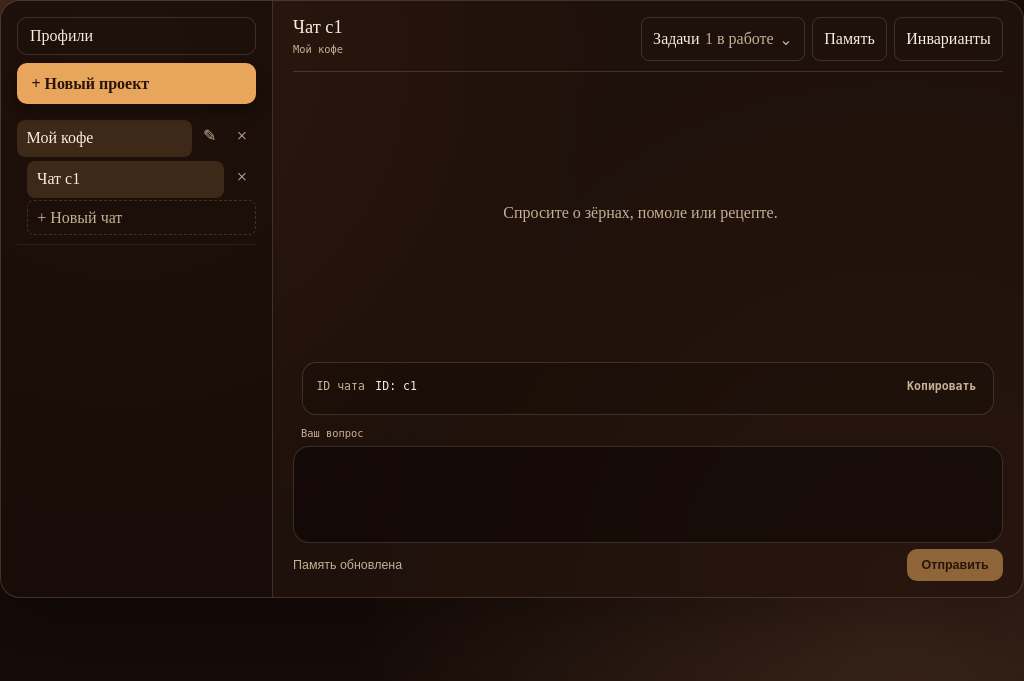
it: BaristaWorkspace › объясняет отсутствие плана во время доуточнения
Click the button "Задачи 1 в работе ⌄" at (723, 39), box x1=641 y1=17 x2=805 y2=61
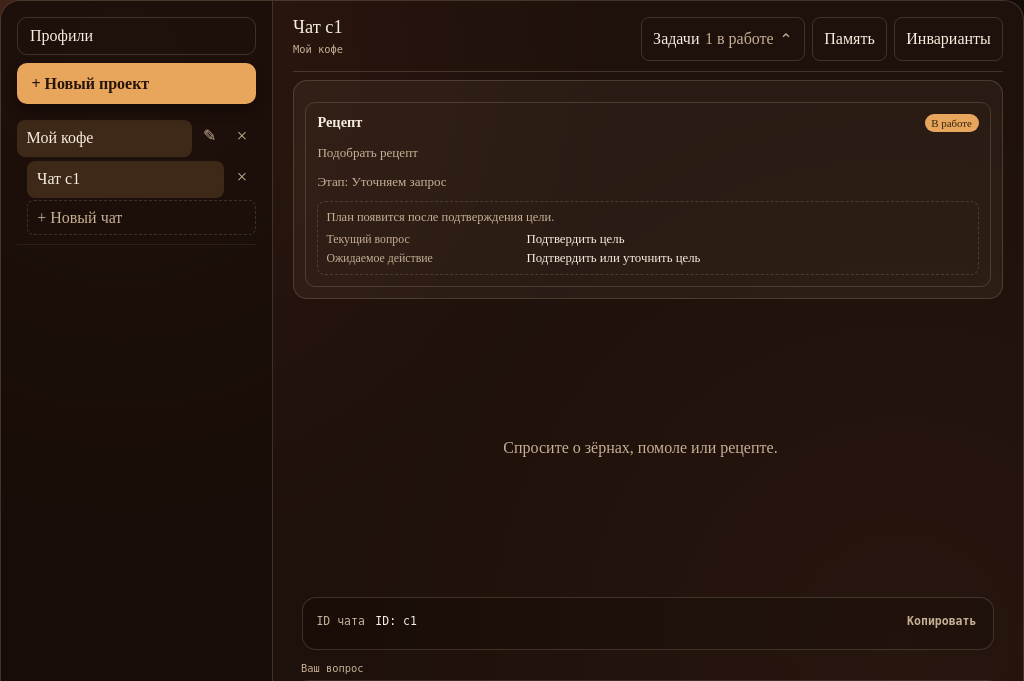
Result: the text "План появится после подтверждения цели." is shown at x1=326 y1=210 x2=554 y2=224
Result: the text "Текущий вопрос" is shown at x1=326 y1=232 x2=410 y2=246
Result: the text "Этап: Уточняем запрос" is shown at x1=317 y1=174 x2=447 y2=189
